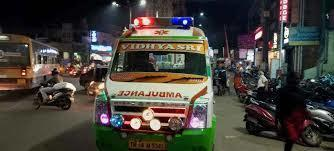AMBULANCE: (94, 12, 222, 151), (125, 12, 201, 38), (118, 87, 187, 101)
